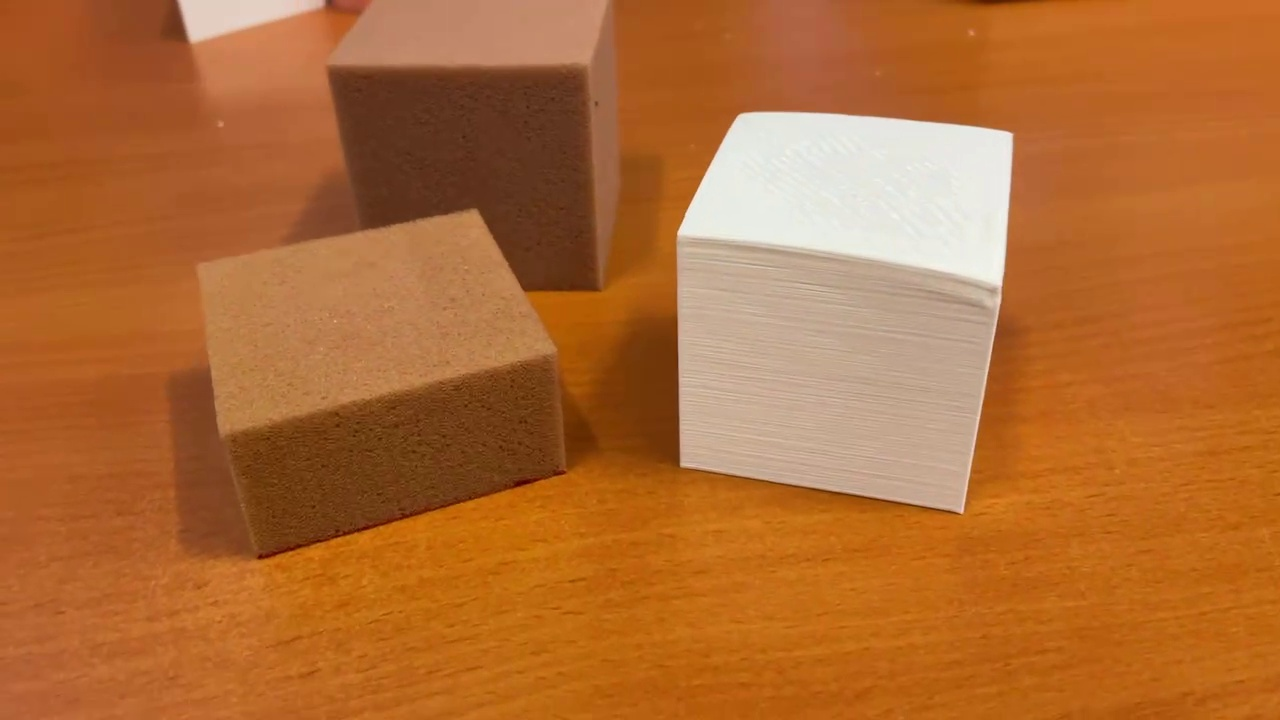Cube: (672, 102, 1020, 521), (322, 1, 625, 297)
Cube_short: (187, 205, 573, 560)
